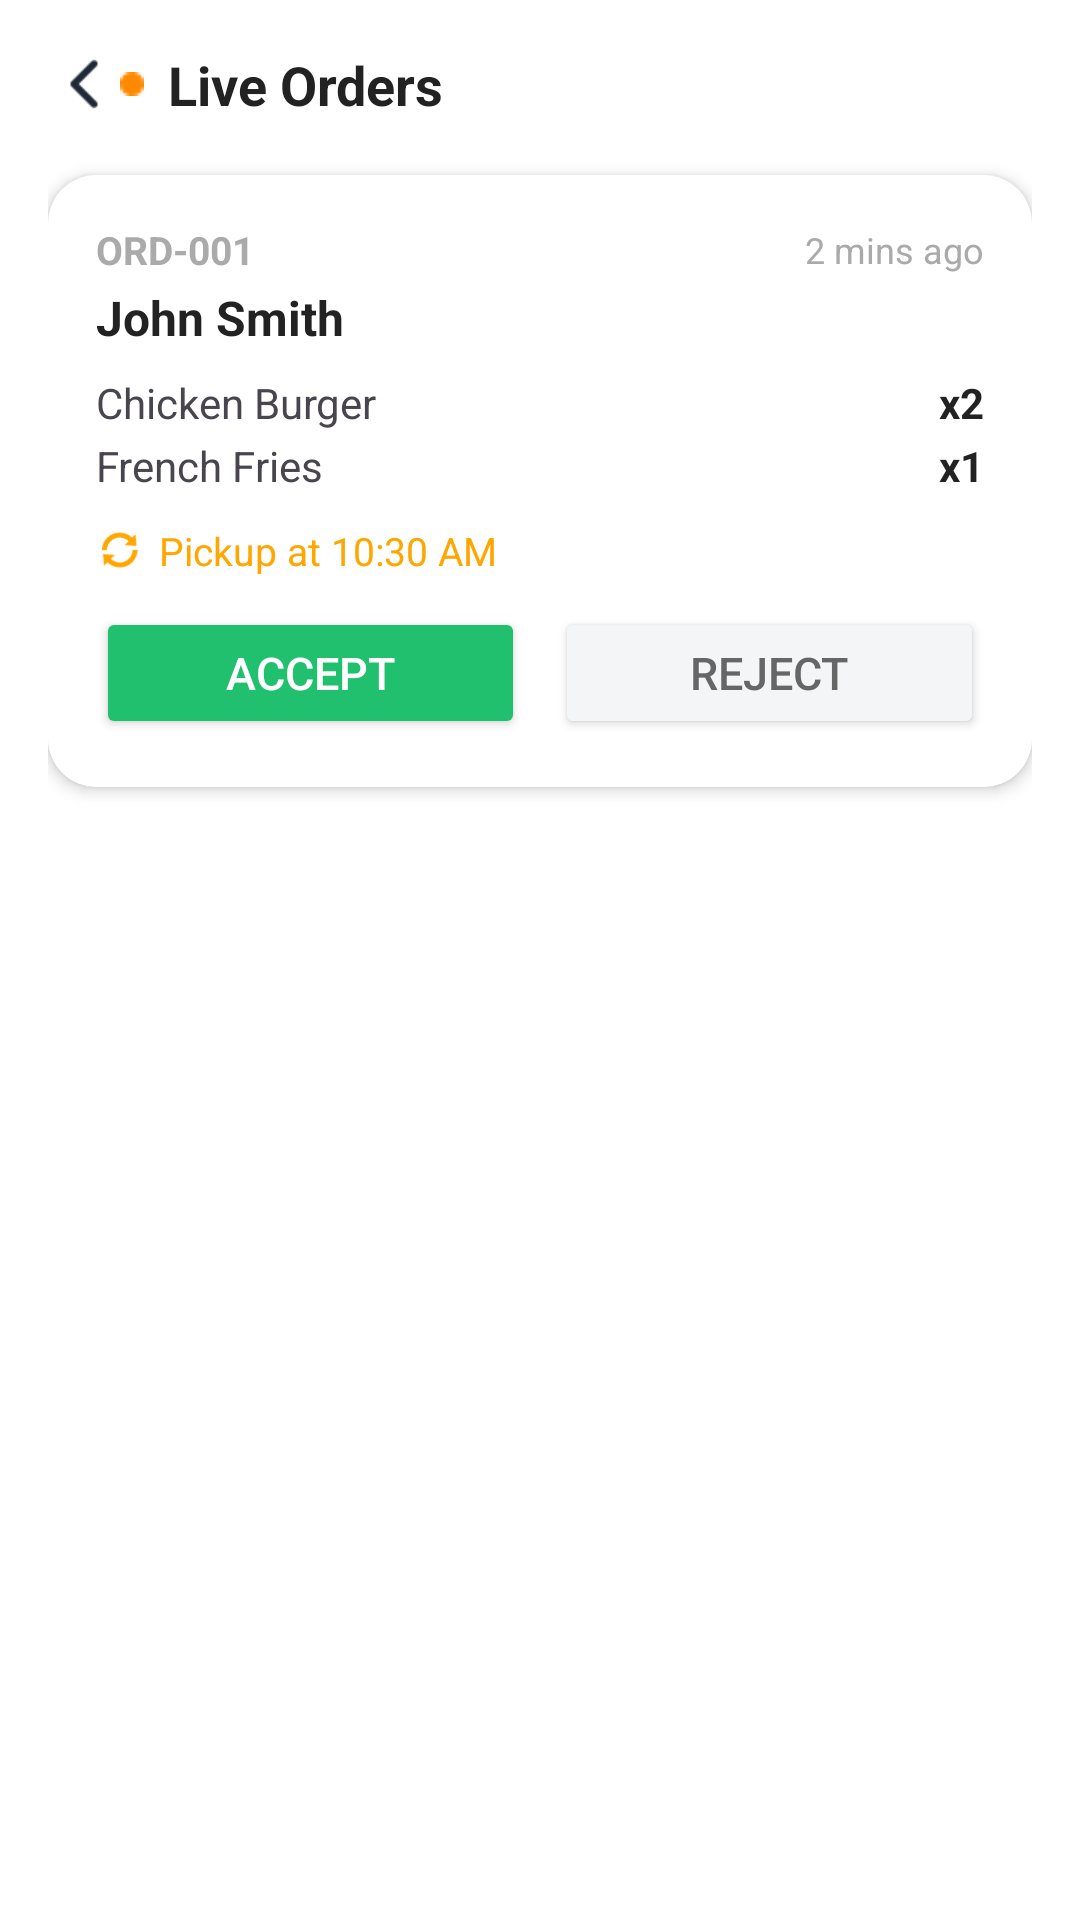

Named icons in this screenshot (1080×1920) and their bounding boxes, (x1, y1, x2, y2):
Back: (70, 60, 98, 109)
popup sync: (102, 532, 138, 568)
